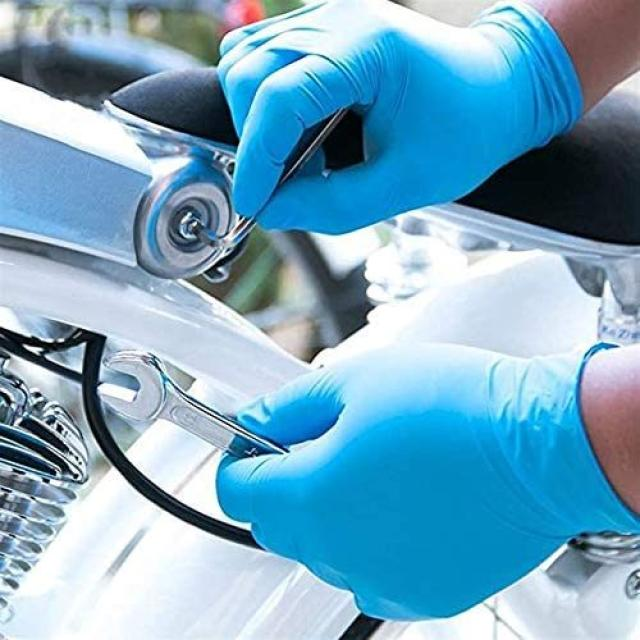gloves: (220, 340, 640, 626), (221, 0, 586, 230)
